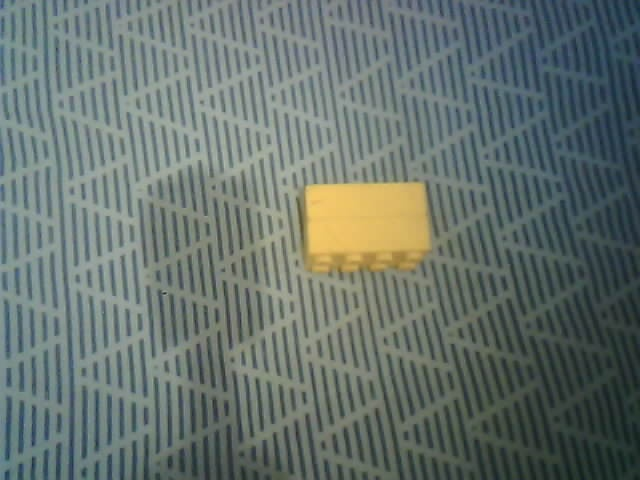lego: (299, 180, 434, 275)
